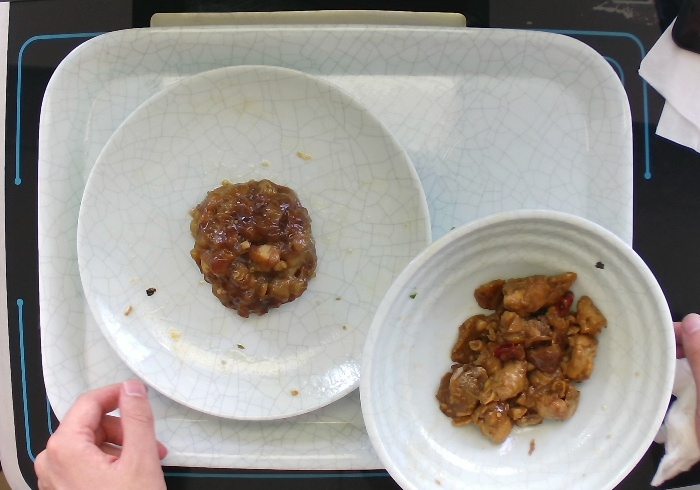JYsf-Da_Tang_Wan: (358, 207, 679, 490)
JYsf-Da_Yuan_Pan: (75, 62, 434, 422)
